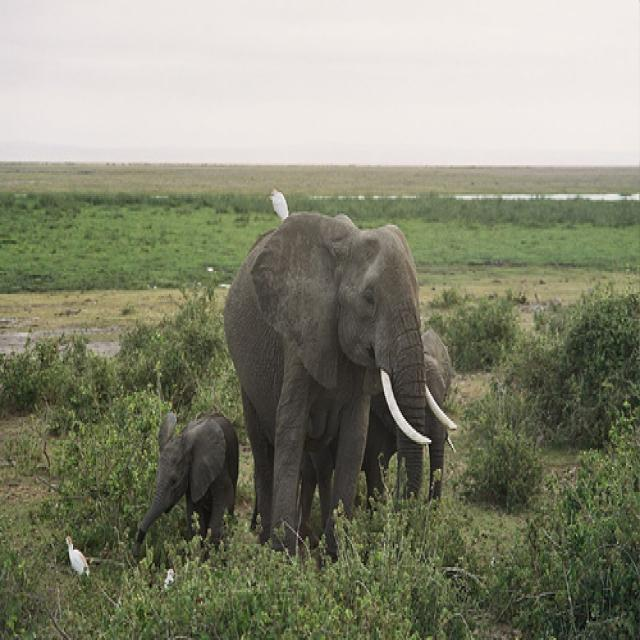Elephant: (222, 210, 456, 565), (132, 408, 239, 560)
